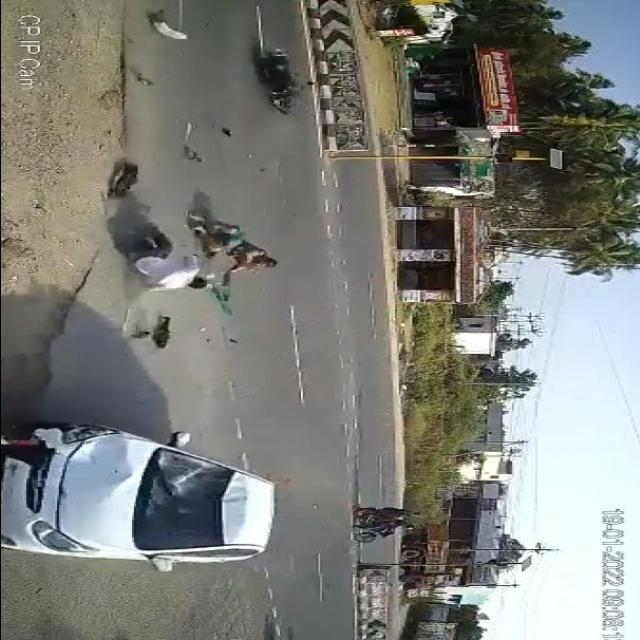accident: (0, 423, 297, 563), (256, 51, 324, 115)
